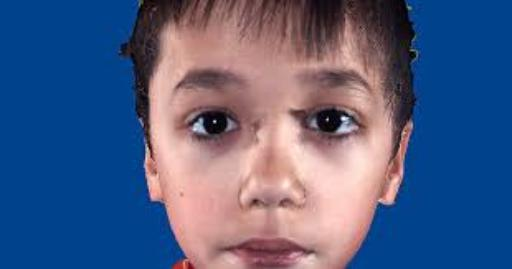left_eye: (303, 108, 366, 137)
left_lip_corner: (297, 240, 321, 261)
right_eye: (187, 110, 243, 139)
right_lip_corner: (214, 240, 246, 259)
